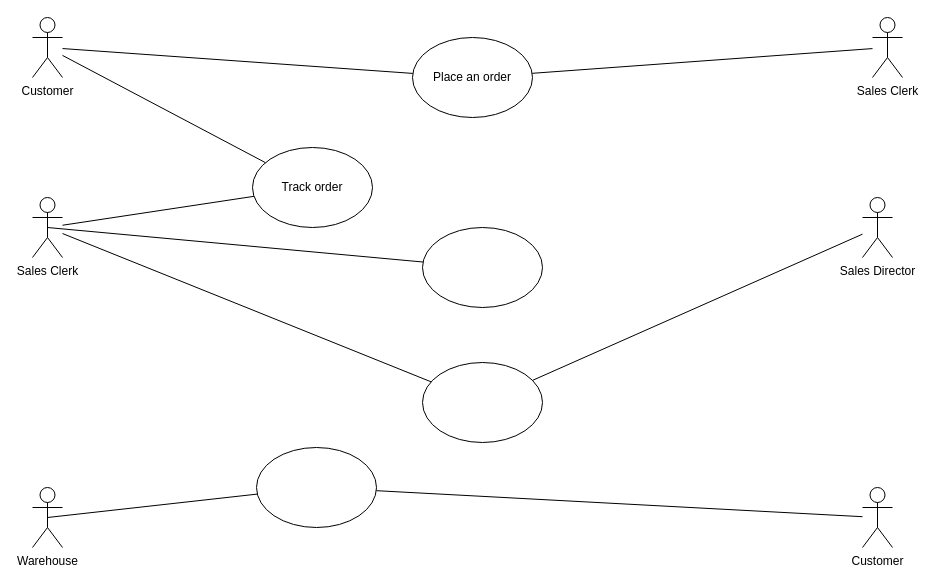
The diagram is 935 pixels wide and 586 high, and some of its shapes have lost their labels. Here are the shapes that lost their labels. From the top down, the centre of each, then its label:
At (x=482, y=267): "Check Stock".
At (x=482, y=402): "Collate Monthly Order Report".
At (x=316, y=487): "Order and Invoice".
